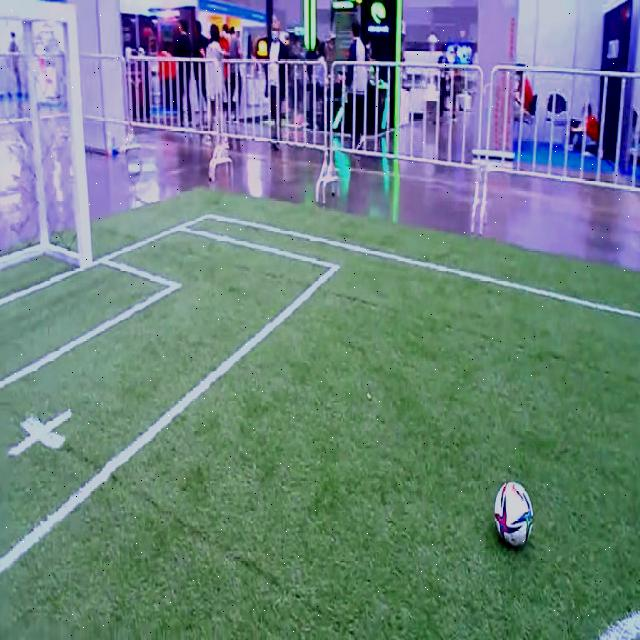ball: (495, 481, 533, 546)
